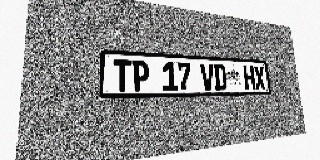1: (161, 61, 177, 91)
7: (177, 62, 192, 91)
D: (213, 64, 227, 90)
H: (243, 65, 256, 90)
P: (132, 60, 149, 91)
T: (113, 59, 131, 92)
V: (200, 63, 215, 90)
X: (253, 66, 266, 90)
